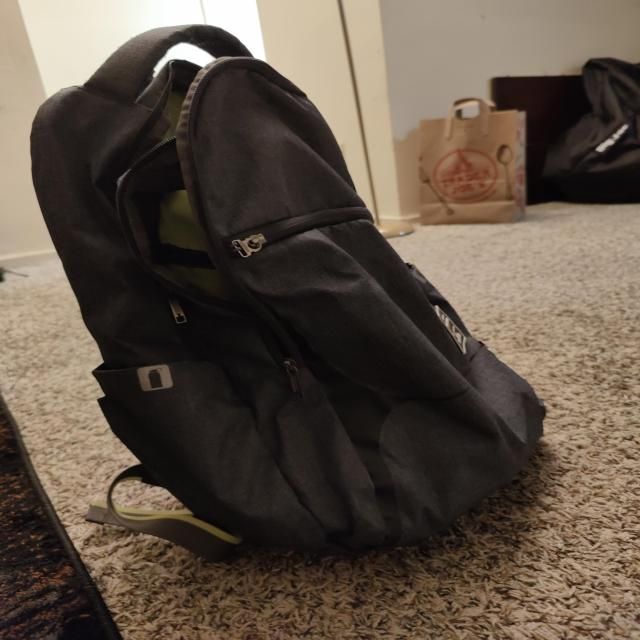bag: (37, 29, 540, 548)
